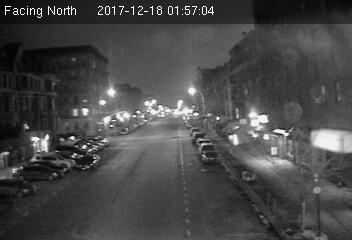car: (75, 153, 102, 170), (201, 150, 218, 162)
